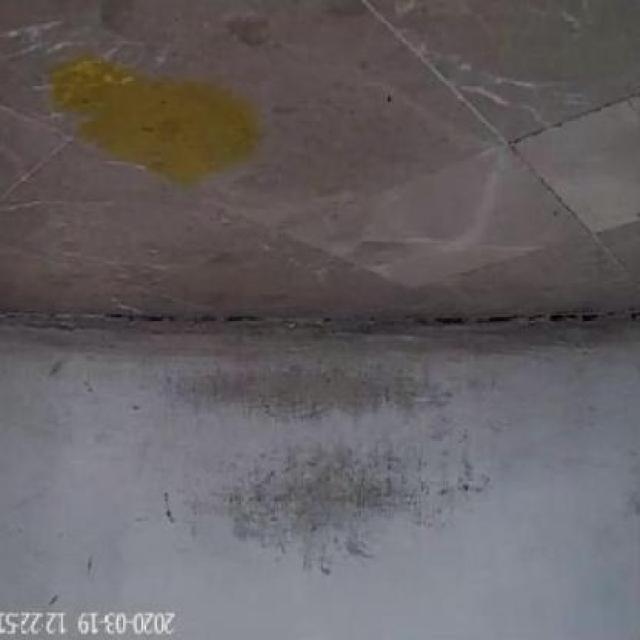spillage: (45, 53, 268, 189)
